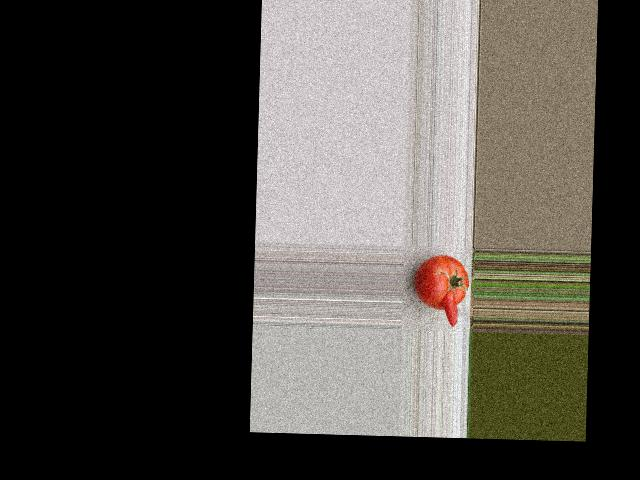tomato: (414, 253, 469, 310)
